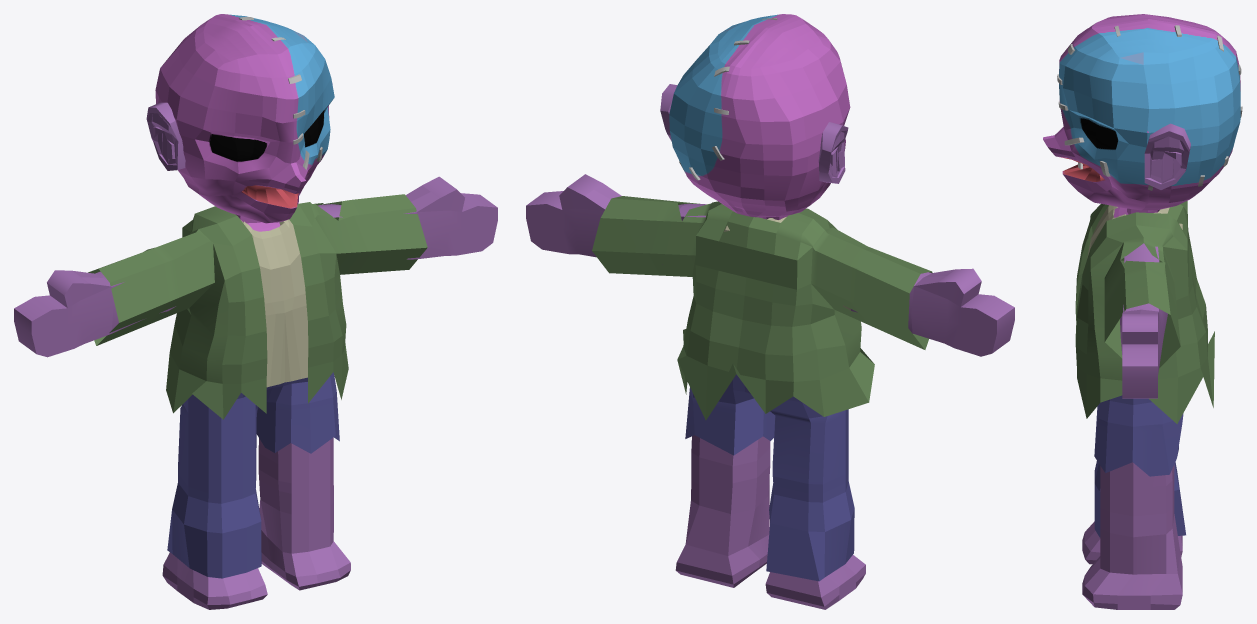
Rendered from zombi(kari_2).fbx.
The picture shows the model from 3 angles, left to right: view 1: azimuth 30°, elevation 25°; view 2: azimuth 150°, elevation 25°; view 3: azimuth 270°, elevation 25°; orthographic projection.
Parts seen in each view (by area): view 1: kao4; view 2: kao4; view 3: kao4.
Boxes of the visible parts, box(x1,y1,x2,y2) form: kao4: box(14, 14, 497, 609); kao4: box(526, 14, 1014, 609); kao4: box(1043, 14, 1242, 609).
Size of the model in its own units: 91.24 by 103 by 33.54.
8 materials, 1 textured.
